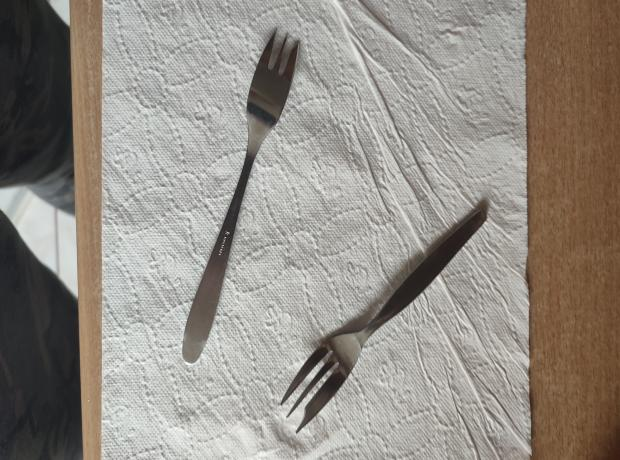metal: (281, 208, 488, 434), (183, 27, 301, 364)
